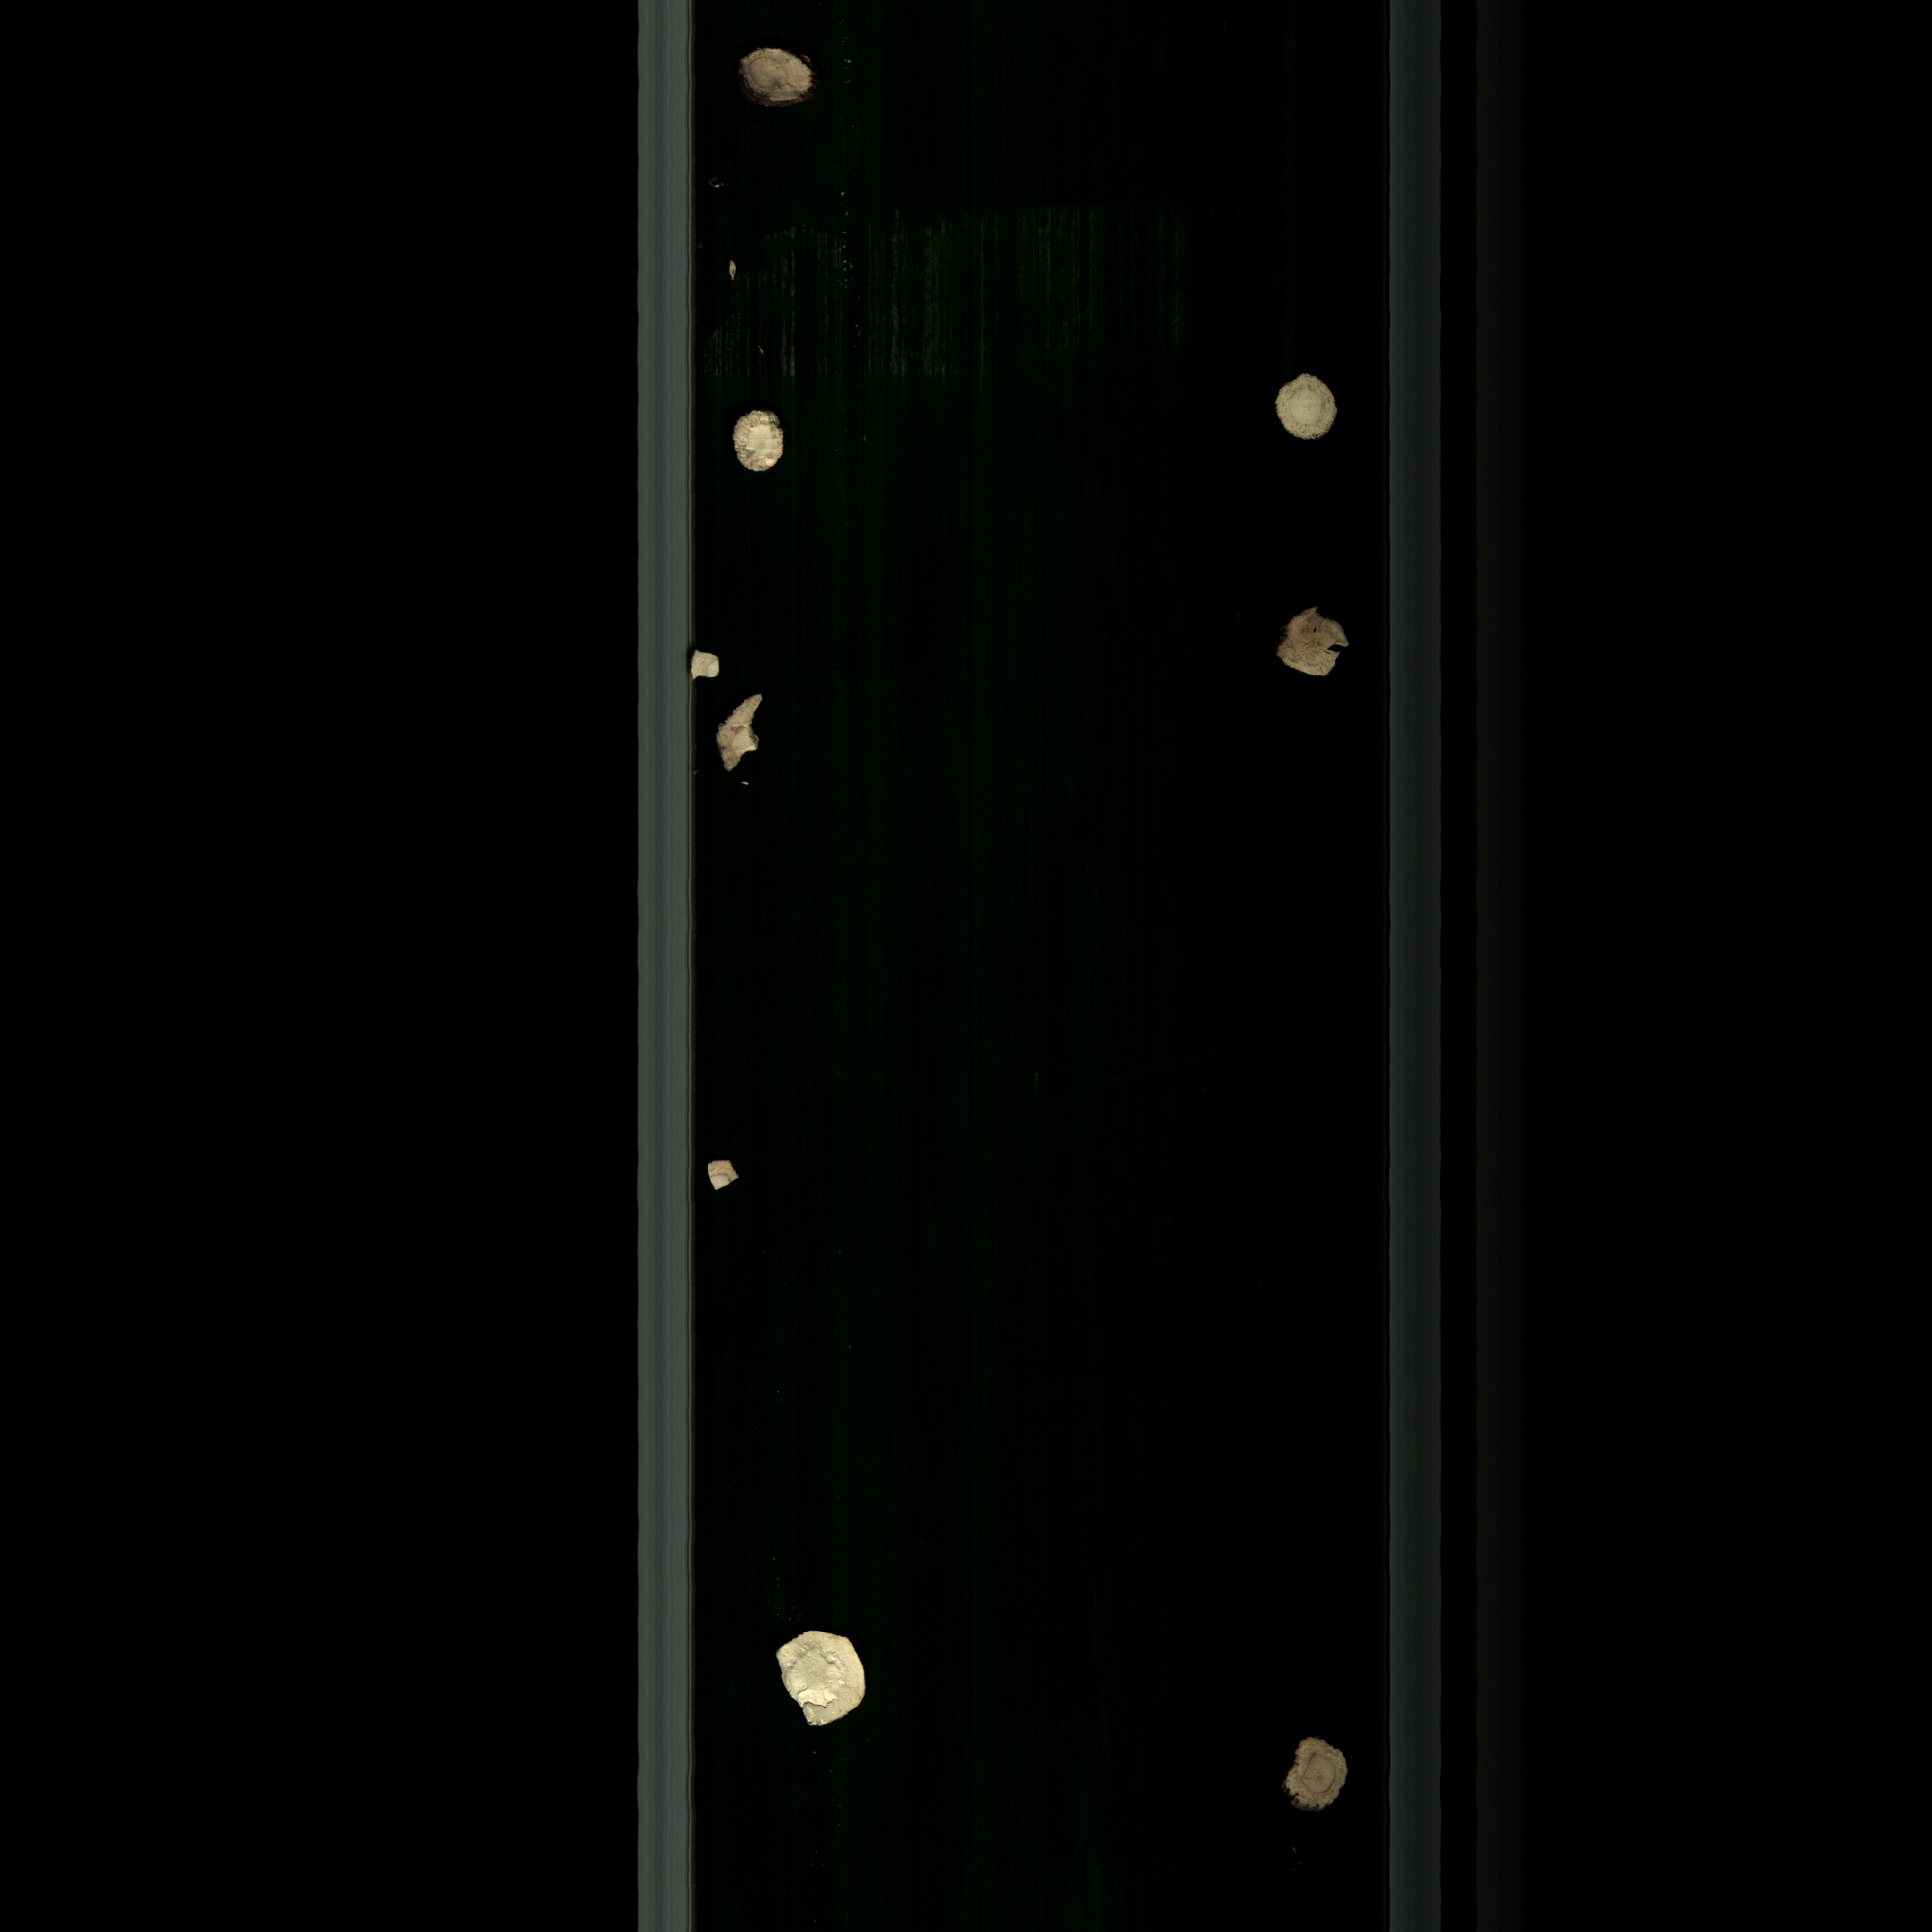debris: (757, 1621, 890, 1755), (704, 690, 782, 778)
dreg: (697, 1152, 745, 1201), (683, 648, 741, 683), (722, 255, 750, 281)
moldy: (1274, 1721, 1361, 1829), (1267, 602, 1355, 694), (731, 41, 828, 108)
